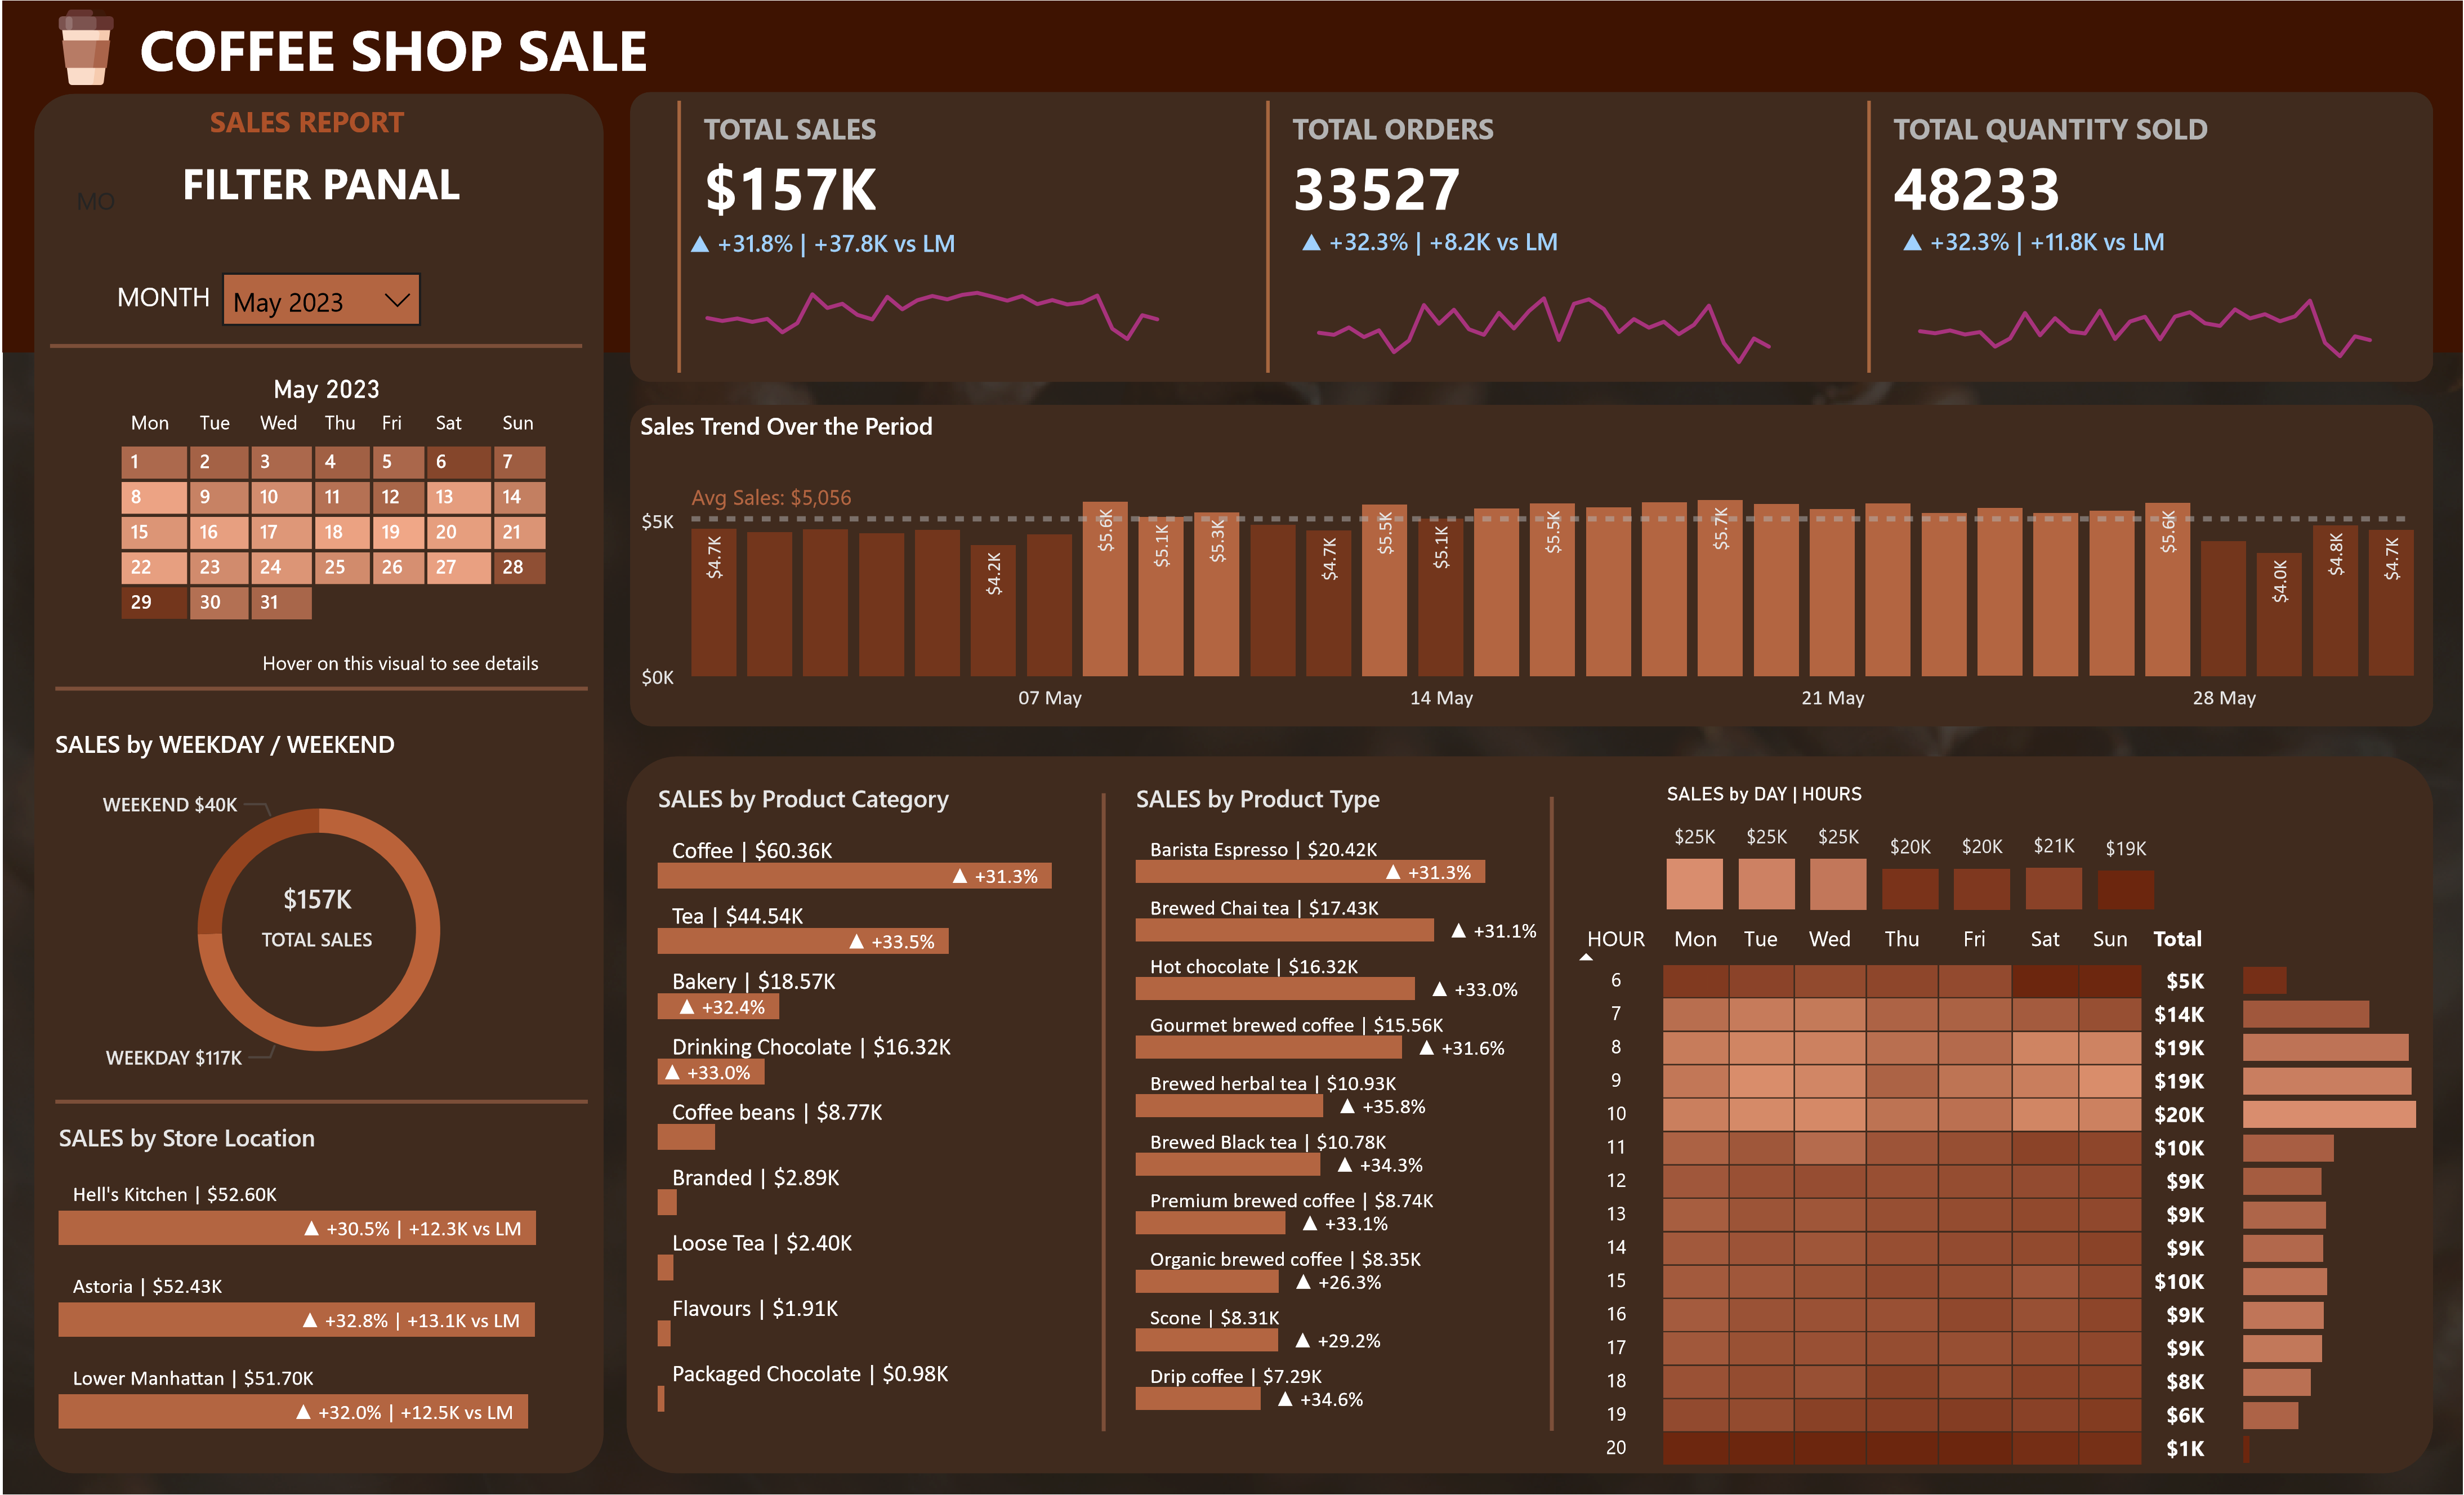

The page's visual inventory and layout, read from the dashboard file:
{"tool":"powerbi","page":{"name":"COFFEE SHOP SALES DASHBOARD","canvas":[1400,850],"ordinal":0},"visuals":[{"type":"shape","box":[0,0,1400,200],"z":0},{"type":"pivotTable","fields":{"Rows":["DATE TABLE.WEEK NUMBER"],"Columns":["DATE TABLE.DAY NAME"],"Values":["Min(DATE TABLE.DAY NUMBER)"]},"box":[36.7,227.1,292.9,164.3],"z":0,"group":"g4"},{"type":"shape","box":[17.8,53.3,324.4,784.4],"z":1000},{"type":"card","fields":{"Values":["Min(DATE TABLE.MONTH YEAR)"]},"box":[115.3,200,137.1,44.3],"z":1000,"group":"g4"},{"type":"shape","box":[356.7,51.7,1026.7,165],"z":2000},{"type":"card","fields":{"Values":["Transactions.foot note"]},"box":[133.2,356.7,185.6,45.6],"z":2000,"group":"g4"},{"type":"textbox","box":[73,0,311.7,53.3],"z":3000},{"type":"cardVisual","fields":{"Data":["Transactions.TOTAL SALES"]},"box":[378.6,52.4,300,165.7],"z":4000,"group":"g1"},{"type":"cardVisual","fields":{"Data":["Transactions.total orders"]},"box":[714.5,52.4,300,165.7],"z":4000,"group":"g2"},{"type":"cardVisual","fields":{"Data":["Transactions.TOTAL QUANTITY SOLD"]},"box":[1056.1,52.4,300,165.7],"z":4000,"group":"g3"},{"type":"slicer","fields":{"Values":["DATE TABLE.MONTH YEAR"]},"box":[120,150,123.3,38.3],"z":4000},{"type":"group","id":"g1","title":"Group 1","box":[378.6,52.4,300,165.7],"z":5000},{"type":"group","id":"g2","title":"Group 1","box":[714.5,52.4,305.7,165.7],"z":6000},{"type":"lineChart","fields":{"Category":["DATE TABLE.Date.Variation.Date Hierarchy.Year","DATE TABLE.Date.Variation.Date Hierarchy.Quarter","DATE TABLE.Date.Variation.Date Hierarchy.Month","DATE TABLE.Date.Variation.Date Hierarchy.Day"],"Y":["Transactions.TOTAL ORDERS"]},"box":[734.5,128.5,285.7,84.3],"z":6000,"group":"g2"},{"type":"lineChart","fields":{"Category":["DATE TABLE.Date.Variation.Date Hierarchy.Year","DATE TABLE.Date.Variation.Date Hierarchy.Quarter","DATE TABLE.Date.Variation.Date Hierarchy.Month","DATE TABLE.Date.Variation.Date Hierarchy.Day"],"Y":["Transactions.TOTAL QUANTITY SOLD"]},"box":[1076.1,128.5,285.7,84.3],"z":6000,"group":"g3"},{"type":"lineChart","fields":{"Category":["DATE TABLE.Date.Variation.Date Hierarchy.Year","DATE TABLE.Date.Variation.Date Hierarchy.Quarter","DATE TABLE.Date.Variation.Date Hierarchy.Month","DATE TABLE.Date.Variation.Date Hierarchy.Day"],"Y":["Transactions.TOTAL SALES"]},"box":[385.7,129.5,285.7,84.3],"z":6000,"group":"g1"},{"type":"group","id":"g3","title":"Group 1","box":[1056.1,52.4,305.7,165.7],"z":7000},{"type":"group","id":"g4","title":"Group 2","box":[36.7,200,293.3,202.2],"z":8000},{"type":"shape","box":[30,380,302.9,22.9],"z":9000},{"type":"shape","box":[26.7,185,303.3,23.3],"z":10000},{"type":"donutChart","title":"SALES by WEEKDAY / WEEKEND","fields":{"Category":["DATE TABLE.WEEKDAY / WEEKEND"],"Y":["Transactions.TOTAL SALES"]},"box":[25.5,413.6,309.1,210.9],"z":11000},{"type":"card","fields":{"Values":["Transactions.TOTAL SALES"]},"box":[131.8,485.5,94.5,70],"z":12000},{"type":"shape","box":[30,615.5,302.7,22.7],"z":13000},{"type":"clusteredBarChart","title":"SALES by Store Location","fields":{"Category":["Transactions.store_location"],"Y":["Transactions.PLACEHOLDER","Transactions.TOTAL SALES"]},"box":[27.3,638.2,306.4,181.8],"z":14000},{"type":"shape","box":[356.7,230,1026.7,183.3],"z":15000},{"type":"columnChart","title":"Sales Trend Over the  Period","fields":{"Category":["Transactions.transaction_date"],"Y":["Transactions.TOTAL SALES"]},"box":[358.3,233.3,1025,180],"z":16000},{"type":"shape","box":[355,430,1028.3,408.3],"z":17000},{"type":"clusteredBarChart","title":"SALES by Product Category","fields":{"Y":["Transactions.PLACEHOLDER","Transactions.TOTAL SALES"],"Category":["Transactions.product_category"]},"box":[368.3,445,265,363.3],"z":18000},{"type":"shape","box":[622.9,451.4,7.1,362.9],"z":19000},{"type":"clusteredBarChart","title":"SALES by Product Category","fields":{"Y":["Transactions.PLACEHOLDER","Transactions.TOTAL SALES"],"Category":["Transactions.product_type"]},"box":[640,445,241.7,361.7],"z":20000},{"type":"shape","box":[878.6,452.9,5.7,361.4],"z":21000},{"type":"pivotTable","fields":{"Rows":["Transactions.HOUR"],"Columns":["DATE TABLE.DAY NAME"],"Values":["Transactions.TOTAL SALES"]},"box":[886.7,520,383.3,318.3],"z":22000},{"type":"barChart","fields":{"Category":["Transactions.HOUR"],"Y":["Transactions.TOTAL SALES"]},"box":[1270,536.7,110,300],"z":23000},{"type":"columnChart","title":"SALES by DAY | HOURS","fields":{"Y":["Transactions.TOTAL SALES"],"Category":["DATE TABLE.DAY NAME"]},"box":[941.7,445,288.3,78.3],"z":24000},{"type":"textbox","box":[36.7,100,83.3,35],"z":25000},{"type":"textbox","box":[60,153.3,71.7,35],"z":26000},{"type":"textbox","box":[96.7,81.7,201.7,53.3],"z":27000},{"type":"image","box":[18,0,58.3,53.3],"z":28000},{"type":"textbox","box":[113.3,53.3,138.3,35],"z":29000}]}

Visuals, with their boxes in screenshot pixels (x1, y1, x2, y2), scaled from the page's 1400x850 canvas onto the 2464x1495 screenshot:
shape: BBox(0, 0, 2463, 352)
pivotTable - DATE TABLE.WEEK NUMBER x DATE TABLE.DAY NAME: BBox(65, 399, 580, 689)
shape: BBox(32, 93, 602, 1474)
card - Min(DATE TABLE.MONTH YEAR): BBox(203, 352, 444, 430)
shape: BBox(628, 91, 2435, 381)
card - Transactions.foot note: BBox(234, 627, 561, 708)
textbox: BBox(128, 0, 677, 93)
cardVisual - Transactions.TOTAL SALES: BBox(666, 92, 1194, 383)
cardVisual - Transactions.total orders: BBox(1257, 92, 1785, 383)
cardVisual - Transactions.TOTAL QUANTITY SOLD: BBox(1859, 92, 2387, 383)
slicer - DATE TABLE.MONTH YEAR: BBox(211, 264, 428, 331)
"Group 1" group: BBox(666, 92, 1194, 383)
"Group 1" group: BBox(1257, 92, 1796, 383)
lineChart - DATE TABLE.Date.Variation.Date Hierarchy.Year x DATE TABLE.Date.Variation.Date Hierarchy.Quarter: BBox(1293, 226, 1796, 374)
lineChart - DATE TABLE.Date.Variation.Date Hierarchy.Year x DATE TABLE.Date.Variation.Date Hierarchy.Quarter: BBox(1894, 226, 2397, 374)
lineChart - DATE TABLE.Date.Variation.Date Hierarchy.Year x DATE TABLE.Date.Variation.Date Hierarchy.Quarter: BBox(679, 227, 1182, 376)
"Group 1" group: BBox(1859, 92, 2397, 383)
"Group 2" group: BBox(65, 352, 581, 707)
shape: BBox(53, 668, 586, 708)
shape: BBox(47, 325, 581, 367)
"SALES by WEEKDAY / WEEKEND" donutChart: BBox(45, 728, 589, 1099)
card - Transactions.TOTAL SALES: BBox(232, 854, 398, 977)
shape: BBox(53, 1083, 586, 1122)
"SALES by Store Location" clusteredBarChart: BBox(48, 1122, 587, 1442)
shape: BBox(628, 404, 2435, 727)
"Sales Trend Over the  Period" columnChart: BBox(631, 410, 2435, 727)
shape: BBox(625, 756, 2435, 1474)
"SALES by Product Category" clusteredBarChart: BBox(648, 783, 1115, 1422)
shape: BBox(1096, 794, 1109, 1432)
"SALES by Product Category" clusteredBarChart: BBox(1126, 783, 1552, 1419)
shape: BBox(1546, 797, 1556, 1432)
pivotTable - Transactions.HOUR x DATE TABLE.DAY NAME: BBox(1561, 914, 2235, 1474)
barChart - Transactions.HOUR x Transactions.TOTAL SALES: BBox(2235, 944, 2429, 1471)
"SALES by DAY | HOURS" columnChart: BBox(1657, 783, 2165, 921)
textbox: BBox(65, 176, 211, 238)
textbox: BBox(106, 270, 232, 331)
textbox: BBox(170, 144, 525, 238)
image: BBox(32, 0, 134, 93)
textbox: BBox(199, 93, 443, 155)
